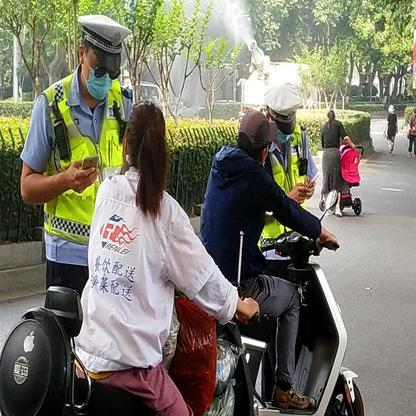target: (205, 105, 363, 410)
